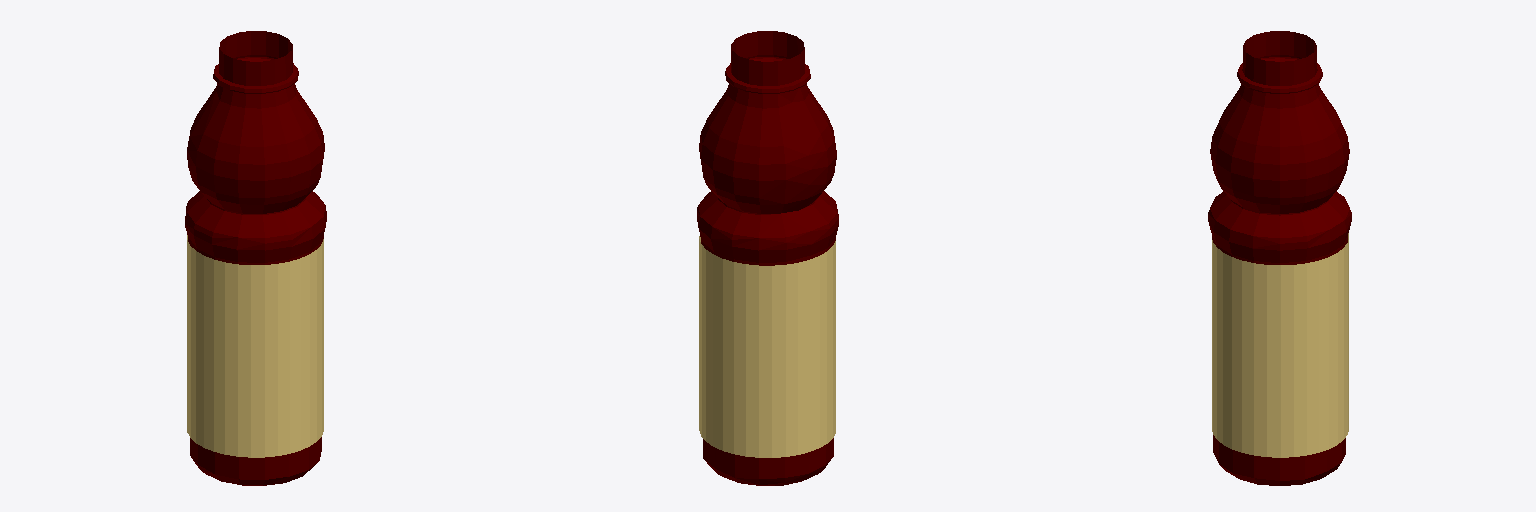
Rendered from bottle-normal_scaled.obj.
The picture shows the model from 3 angles: view 1: azimuth 30°, elevation 25°; view 2: azimuth 150°, elevation 25°; view 3: azimuth 270°, elevation 25°; orthographic projection.
Visible parts, largest first — view 1: bottle_normal, bottle_normal_label; view 2: bottle_normal, bottle_normal_label; view 3: bottle_normal, bottle_normal_label.
Part boxes in pixels (left/top/right/bottom): bottle_normal: left=185, top=31, right=326, bottom=485; bottle_normal_label: left=187, top=235, right=323, bottom=457; bottle_normal: left=697, top=31, right=838, bottom=485; bottle_normal_label: left=699, top=236, right=835, bottom=457; bottle_normal: left=1208, top=31, right=1351, bottom=485; bottle_normal_label: left=1212, top=233, right=1348, bottom=457.
Size of the model in its own units: 0.4818 by 1.55 by 0.4819.